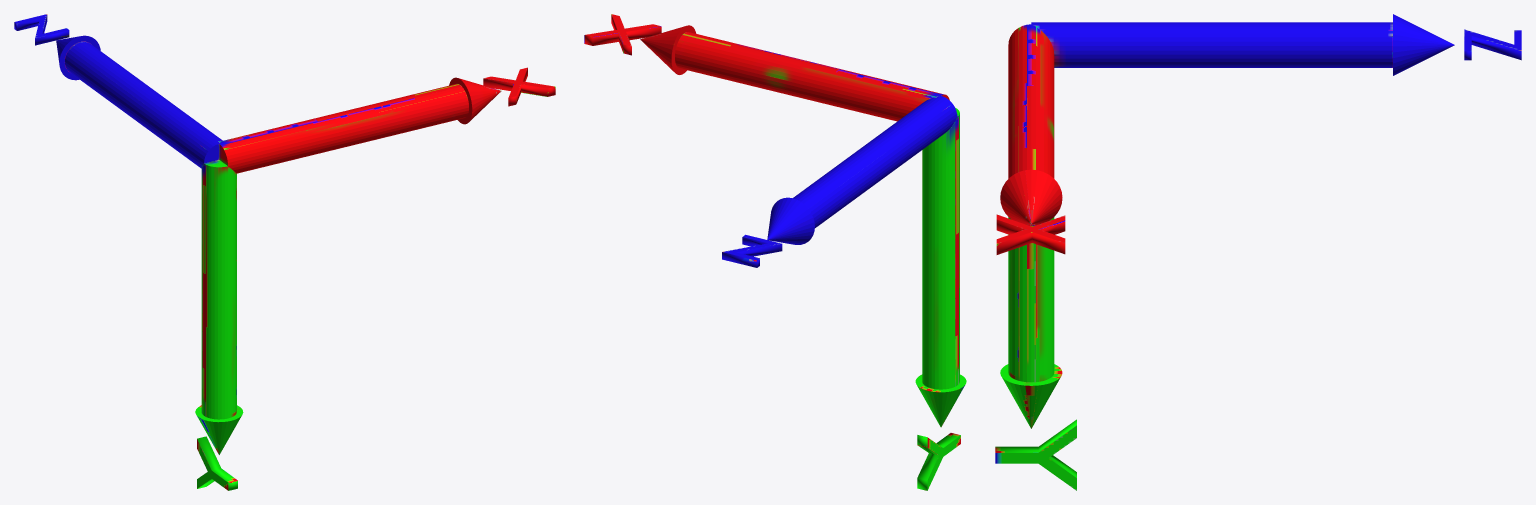
The model's file is Axis.fbx.
3 renders of one model, left to right at view 1: azimuth 30°, elevation 25°; view 2: azimuth 150°, elevation 25°; view 3: azimuth 270°, elevation 25°, orthographic. The views are drawn at different scales.
Visible parts, largest first — view 1: Cylinder; view 2: Cylinder; view 3: Cylinder.
Boxes of the visible parts, x1=… form: Cylinder: x1=14, y1=14, x2=555, y2=490; Cylinder: x1=584, y1=14, x2=966, y2=490; Cylinder: x1=995, y1=14, x2=1521, y2=490.
Size of the model in its own units: 28.39 by 28.62 by 29.
